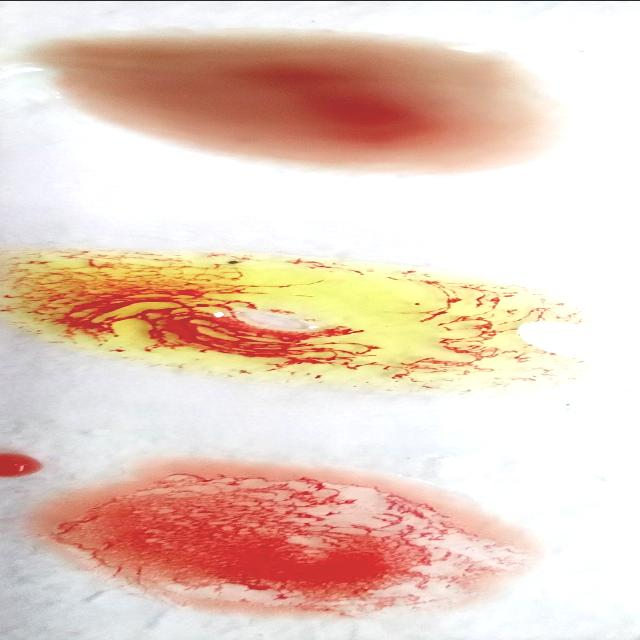B: (0, 248, 582, 391)
D: (19, 464, 535, 620)
